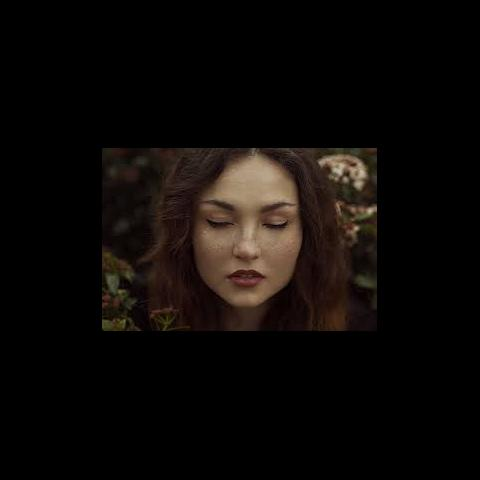closed: (200, 196, 297, 242)
